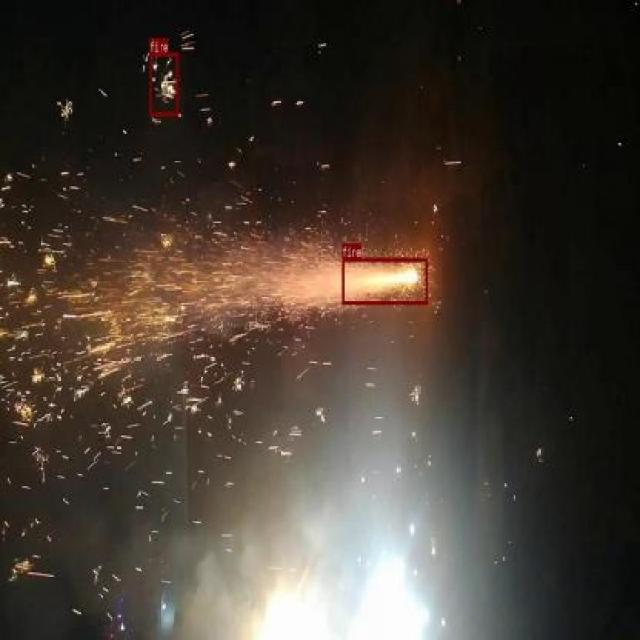Fire: (342, 258, 428, 304), (150, 52, 178, 116)
